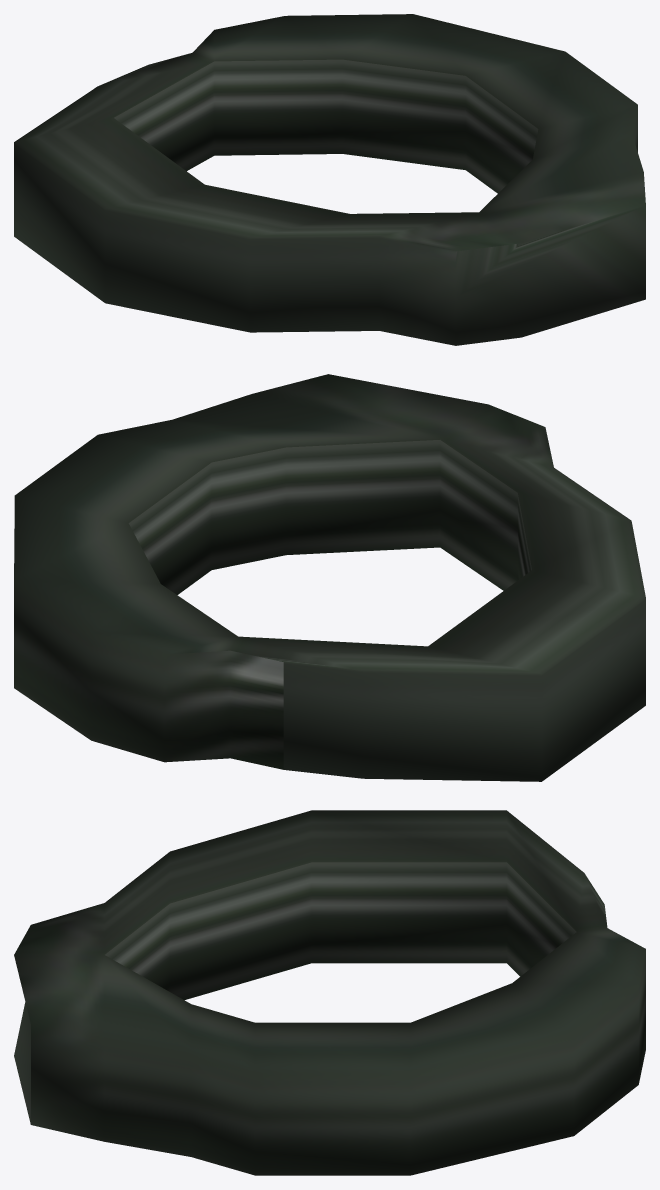
The model's file is Signet.fbx.
The picture shows the model from 3 angles, top to bottom: view 1: azimuth 30°, elevation 25°; view 2: azimuth 150°, elevation 25°; view 3: azimuth 270°, elevation 25°; orthographic projection. The views are drawn at different scales.
Parts seen in each view (by area): view 1: Cube; view 2: Cube; view 3: Cube.
Part boxes in pixels (x1,y1,x2,y2): Cube: (14,14,645,345); Cube: (14,374,645,781); Cube: (14,810,645,1175).
Bounding box in the file's own units: 0.1874 × 0.0333 × 0.1893.
